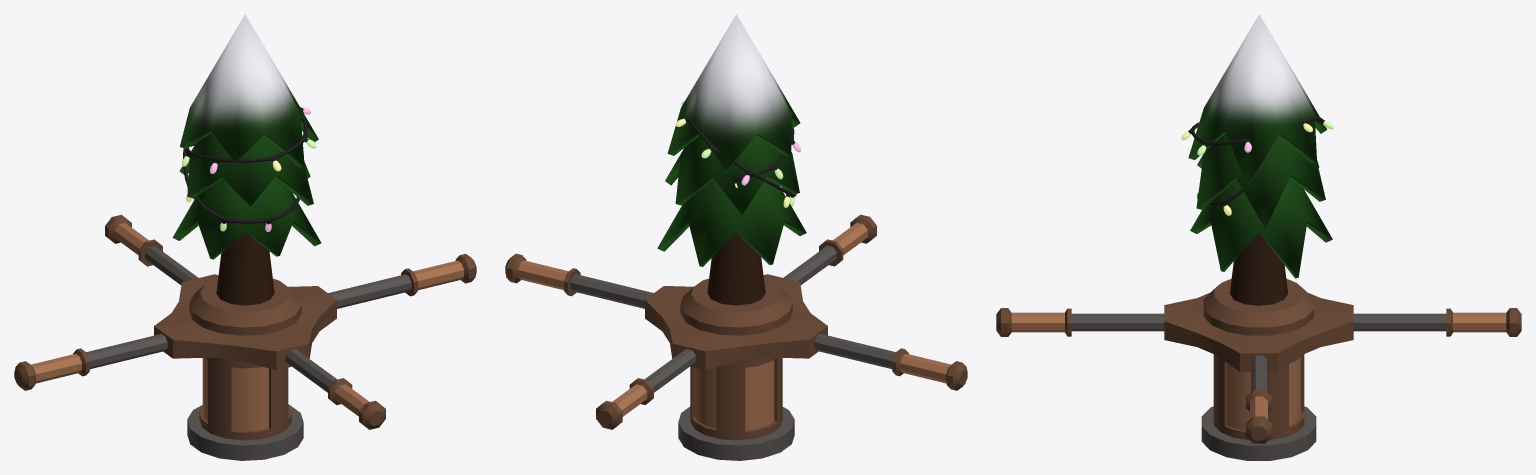
Rendered from Wheel.glb.
3 renders of one model, left to right at view 1: azimuth 30°, elevation 25°; view 2: azimuth 150°, elevation 25°; view 3: azimuth 270°, elevation 25°, orthographic.
Visible parts, largest first — view 1: Wheel, Tree.001, Plane.001; view 2: Wheel, Tree.001, Plane.001; view 3: Wheel, Tree.001, Plane.001.
Boxes of the visible parts, left/top/right/bottom form: Wheel: left=14, top=214, right=476, bottom=460; Tree.001: left=172, top=14, right=321, bottom=305; Plane.001: left=180, top=107, right=316, bottom=231; Wheel: left=505, top=214, right=967, bottom=460; Tree.001: left=657, top=14, right=806, bottom=305; Plane.001: left=675, top=100, right=800, bottom=207; Wheel: left=996, top=278, right=1521, bottom=460; Tree.001: left=1188, top=14, right=1332, bottom=305; Plane.001: left=1181, top=117, right=1333, bottom=215.
Size of the model in its own units: 10.5 by 9.33 by 10.5.
Materials: 4 (3 with a texture image).
